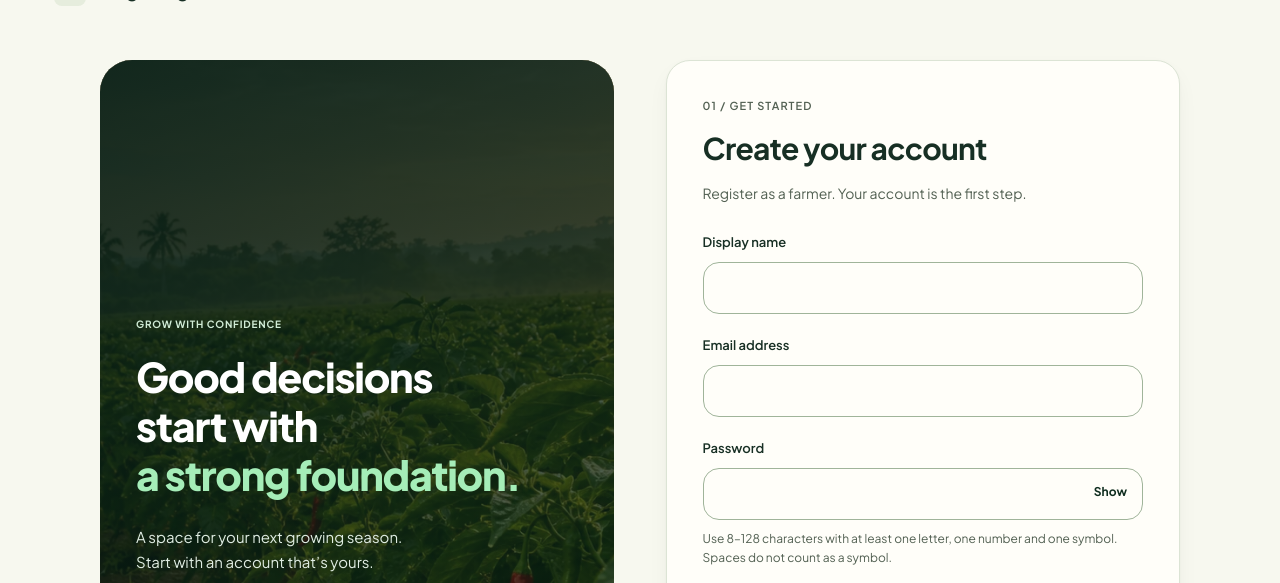
Test: account entry forms › rejects a signup password that is too short before sending it
Type "Synthetic farmer" into the field labelled "Display name".
click(923, 288); type("Synthetic farmer")  # box left=703, top=262, right=1143, bottom=314
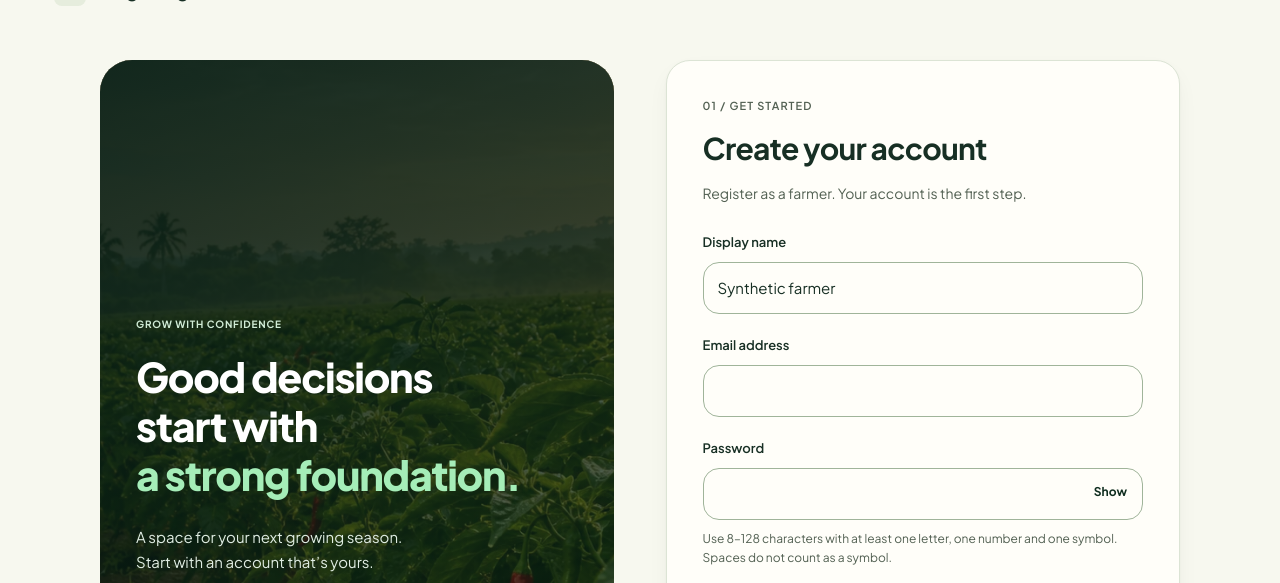
Type "farmer@example.com" into the field labelled "Email address".
click(923, 391); type("farmer@example.com")  # box left=703, top=365, right=1143, bottom=417
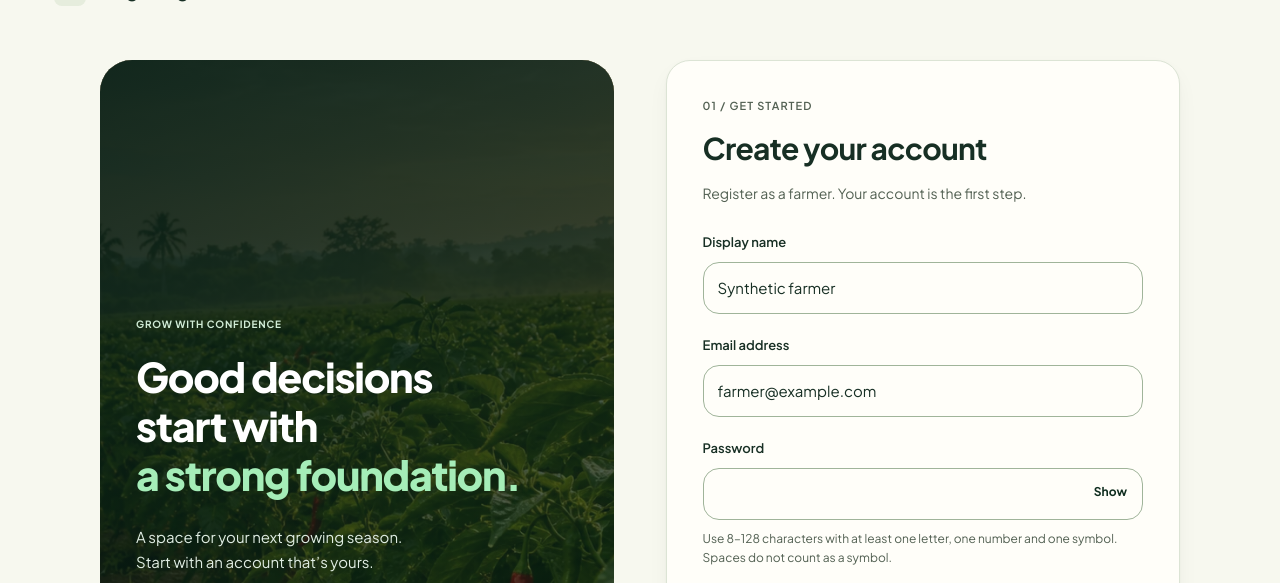
Type "a synthetic growing season password 1!" into the password field labelled "Password".
click(923, 494); type("a synthetic growing season password 1!")  # box left=703, top=468, right=1143, bottom=520
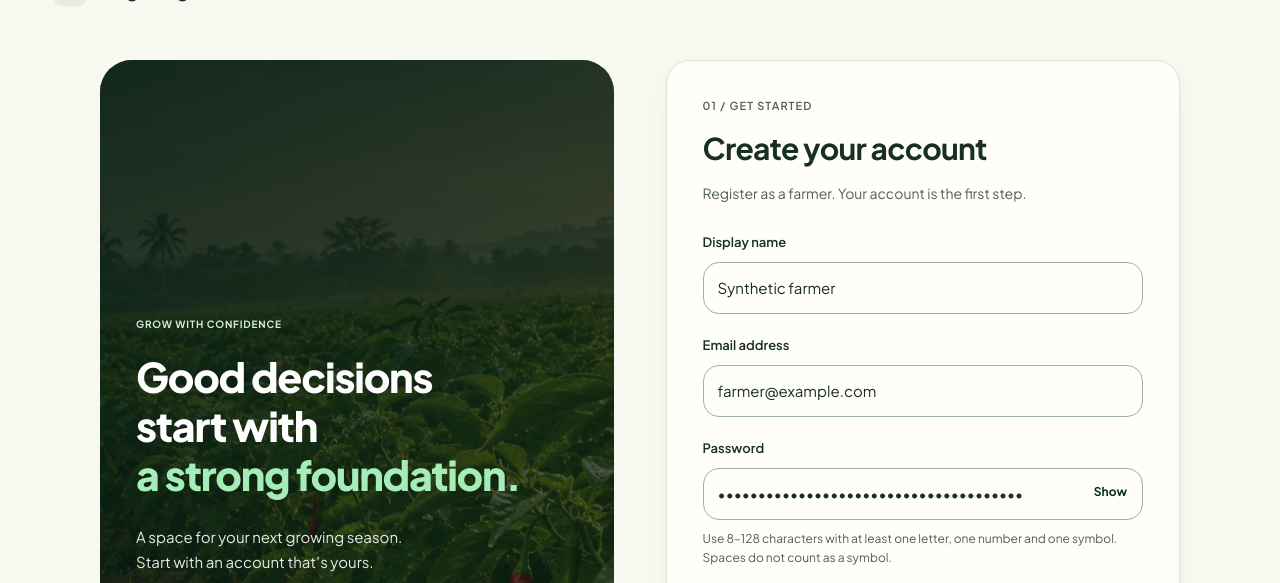
Type "Abcd1!x" into the password field labelled "Password".
click(923, 494); type("Abcd1!x")  # box left=703, top=468, right=1143, bottom=520
(page scrolled)
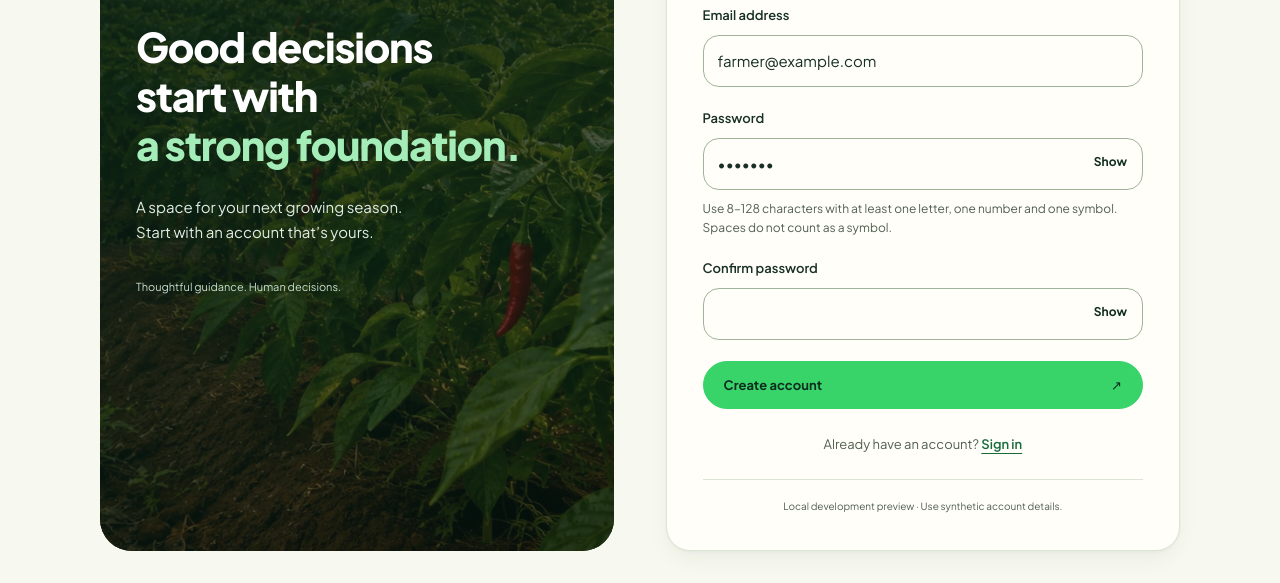
Type "Abcd1!x" into the password field labelled "Confirm password".
click(923, 314); type("Abcd1!x")  # box left=703, top=288, right=1143, bottom=340
(page scrolled)
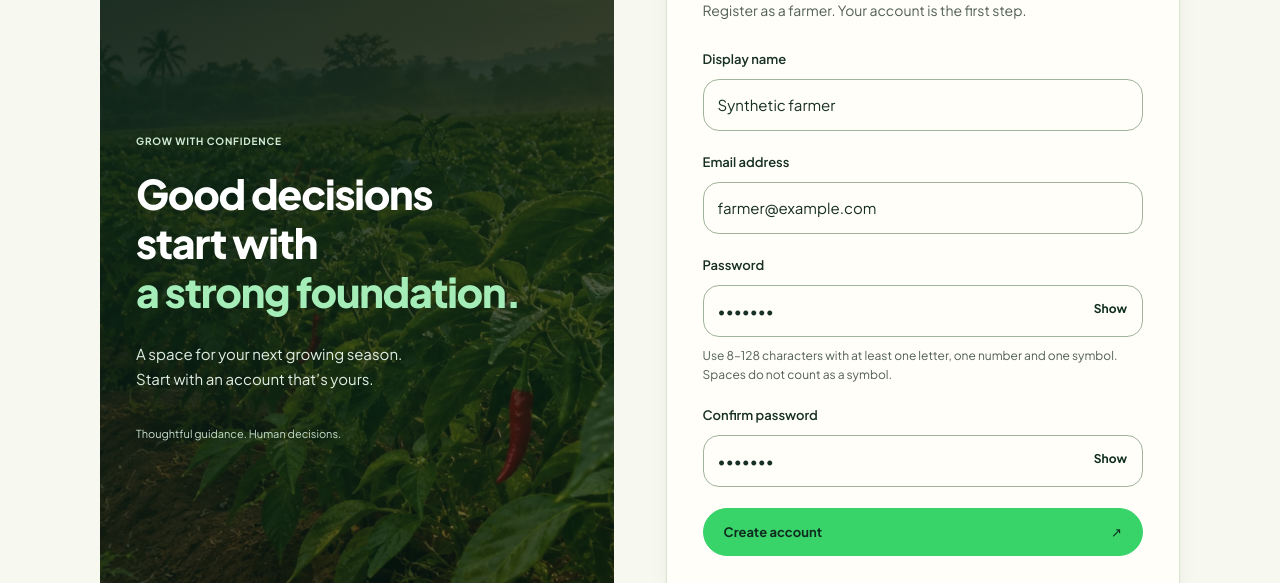
Submit the form labelled "Password", box left=703, top=49, right=1143, bottom=556
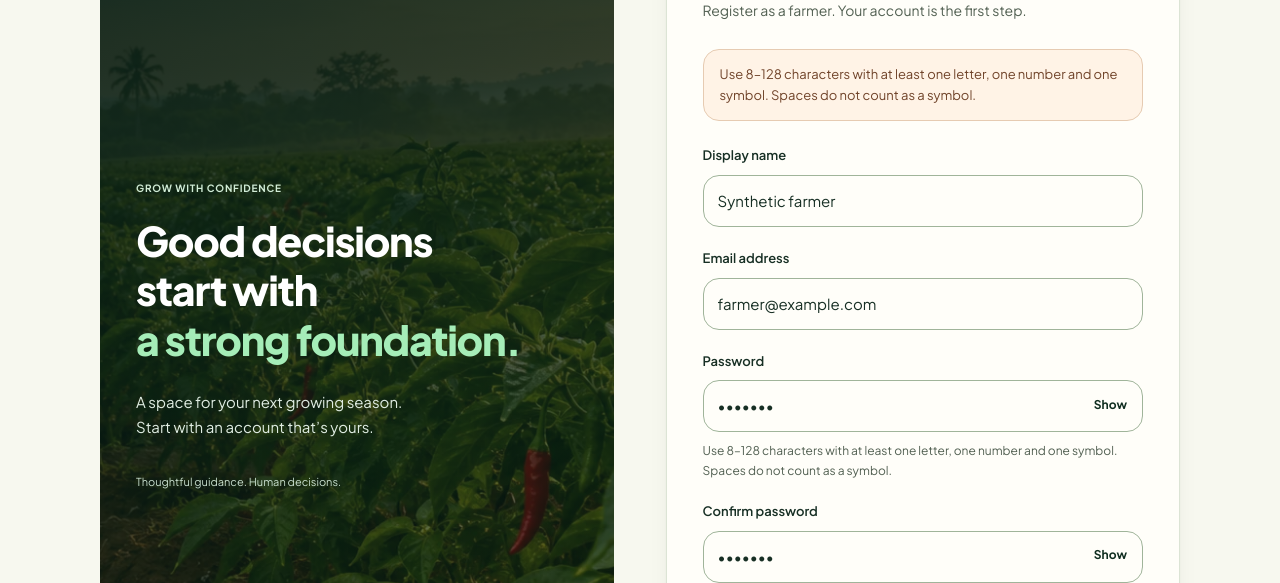
Now the message shows "at least one letter, one number and one symbol", box left=720, top=66, right=1118, bottom=103
